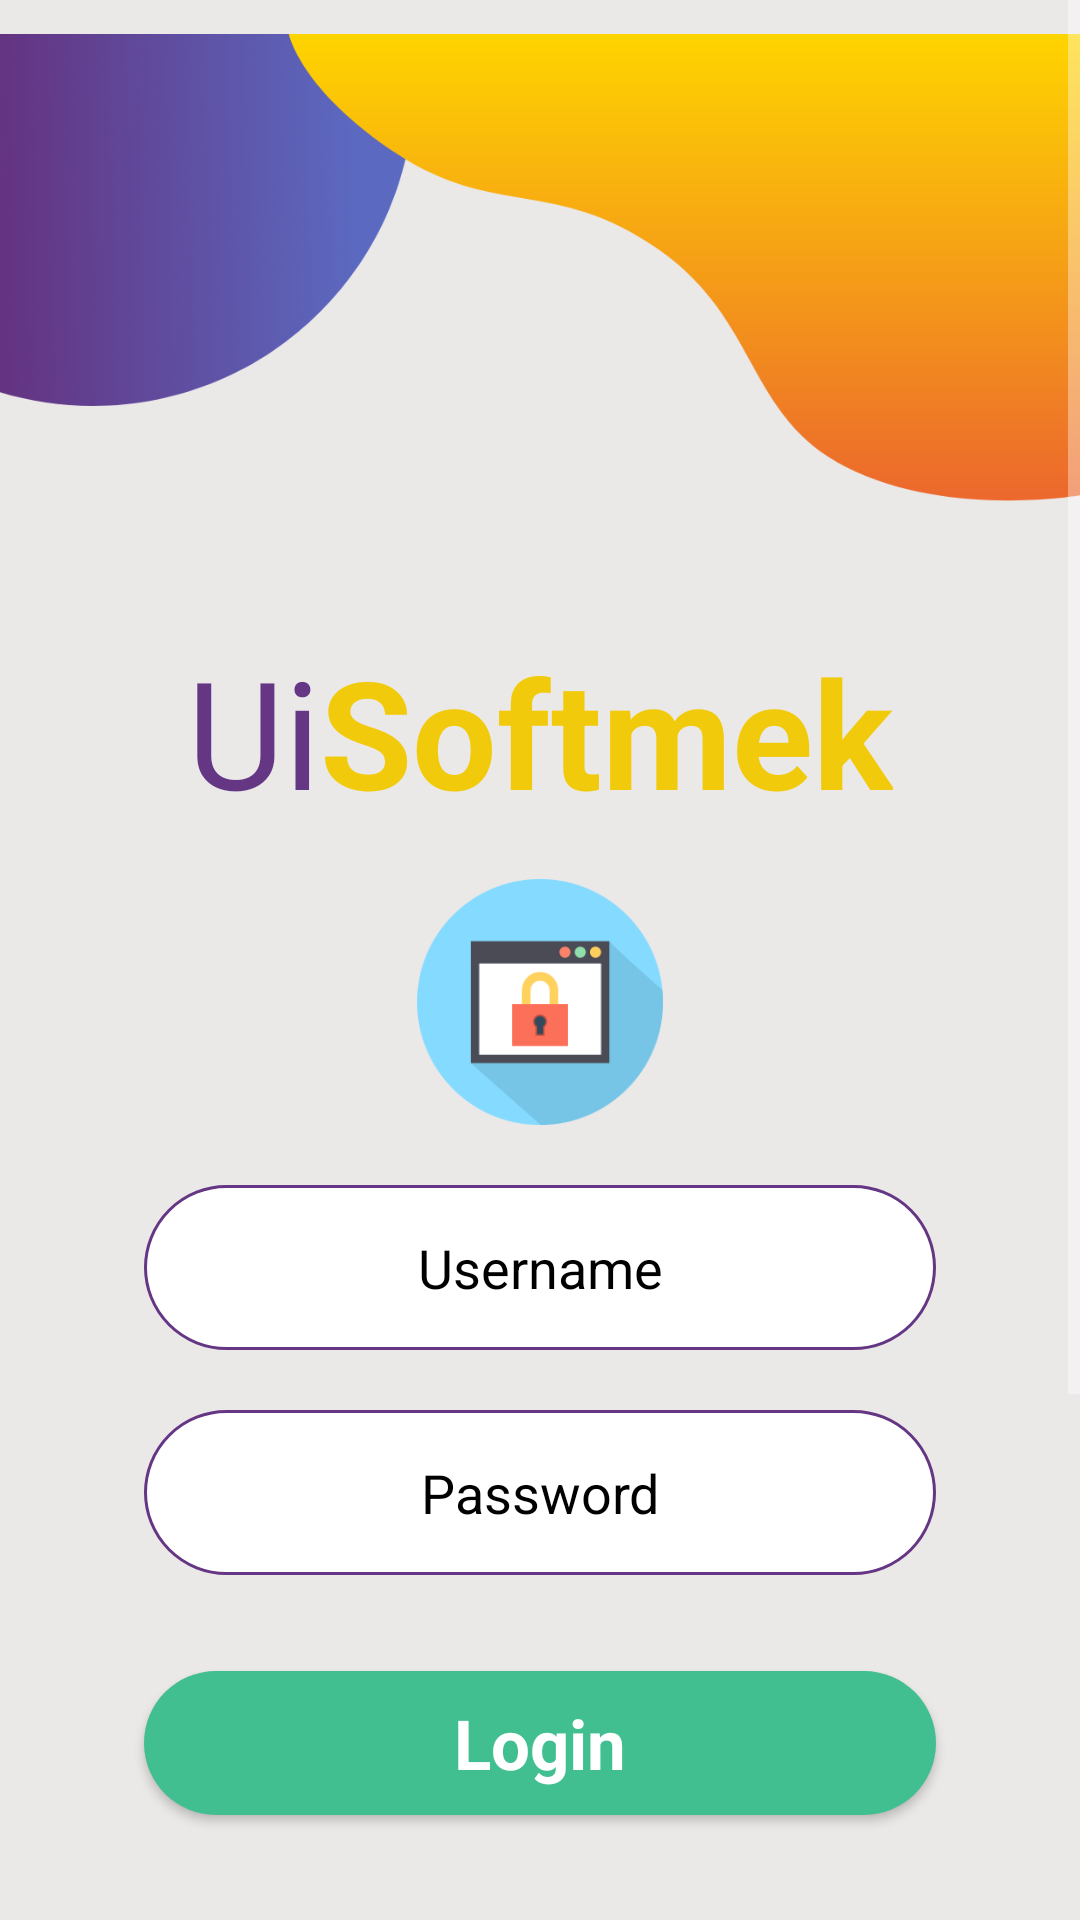

Where to tap for icons on this 1080x1920 app screen, as point (x, y):
lock: point (540, 1002)
